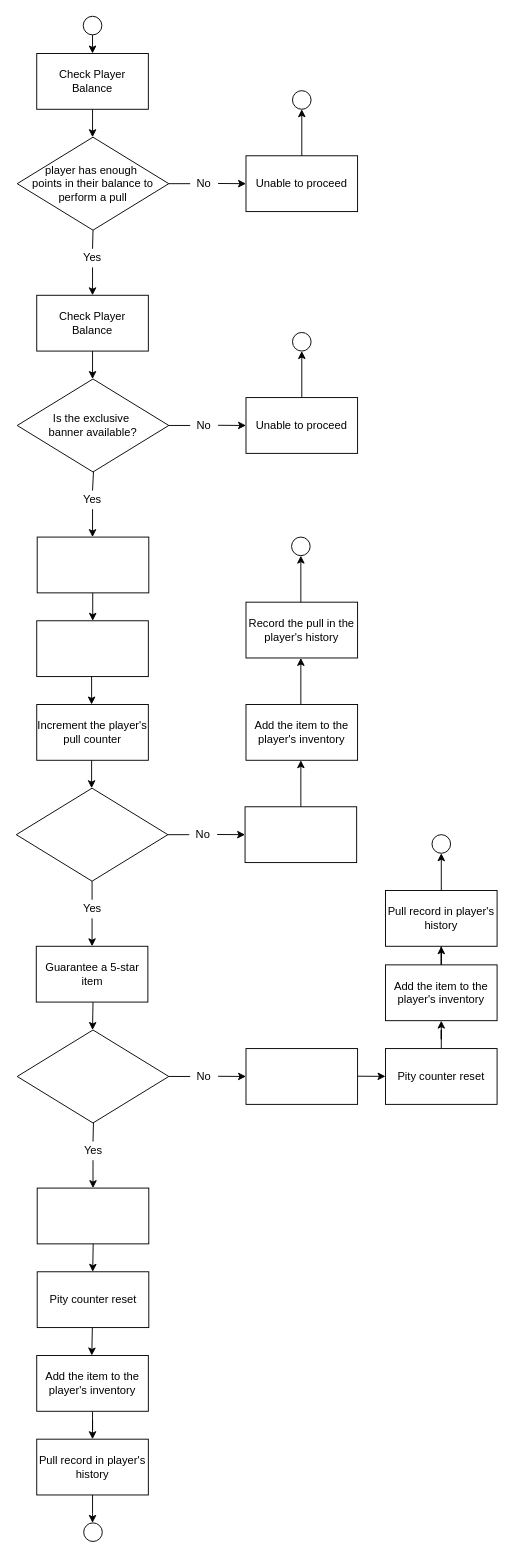
This 513x1558 diagram has some shape labels left out. Here are the shapes that lost their labels. From the top down, the centre of each, then its label:
the point at 92,564: Perform Pull
the point at 92,648: Deduct the cost of the pull from the player's balance
the point at 91,834: Did the pull counter reache the pity system threshold?
the point at 300,834: Generate a random item based on predefined probabilities
the point at 92,1076: Check if the player wins the "50-50"
the point at 301,1076: 5 star item from the permanent banner
the point at 92,1215: 5 star item from the exclusive banner
